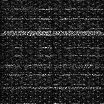lte: (1, 30, 104, 36), (1, 85, 104, 89), (1, 72, 104, 76), (1, 16, 104, 20)
